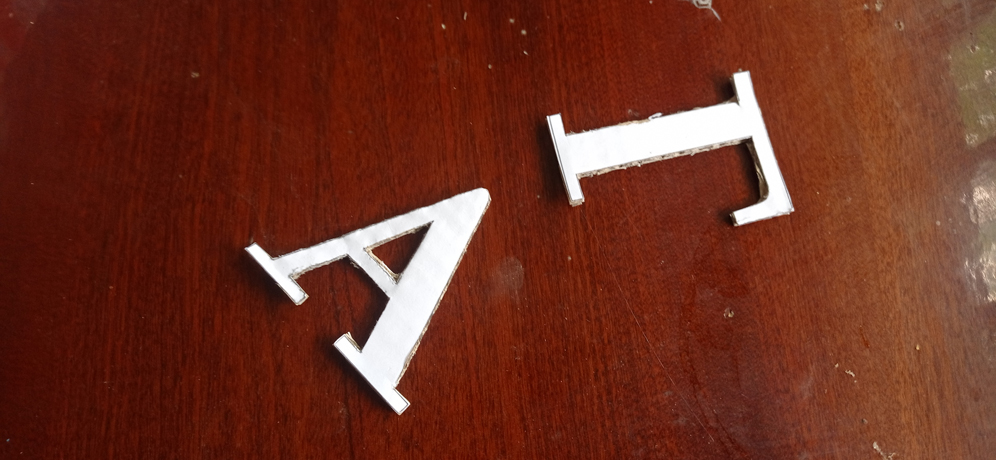a: (244, 184, 492, 418)
g: (546, 70, 794, 230)
